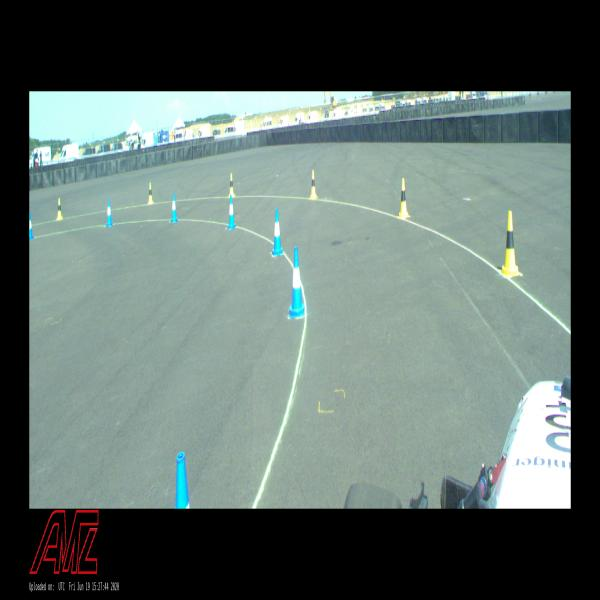blue_cone: (289, 246, 304, 316), (175, 452, 190, 509), (272, 209, 283, 255), (228, 194, 235, 229), (171, 193, 178, 222), (106, 200, 113, 226), (30, 211, 34, 239)
yellow_cone: (502, 211, 518, 275), (399, 178, 408, 218), (310, 170, 317, 200), (148, 183, 154, 204), (57, 198, 62, 220), (230, 174, 234, 196)
